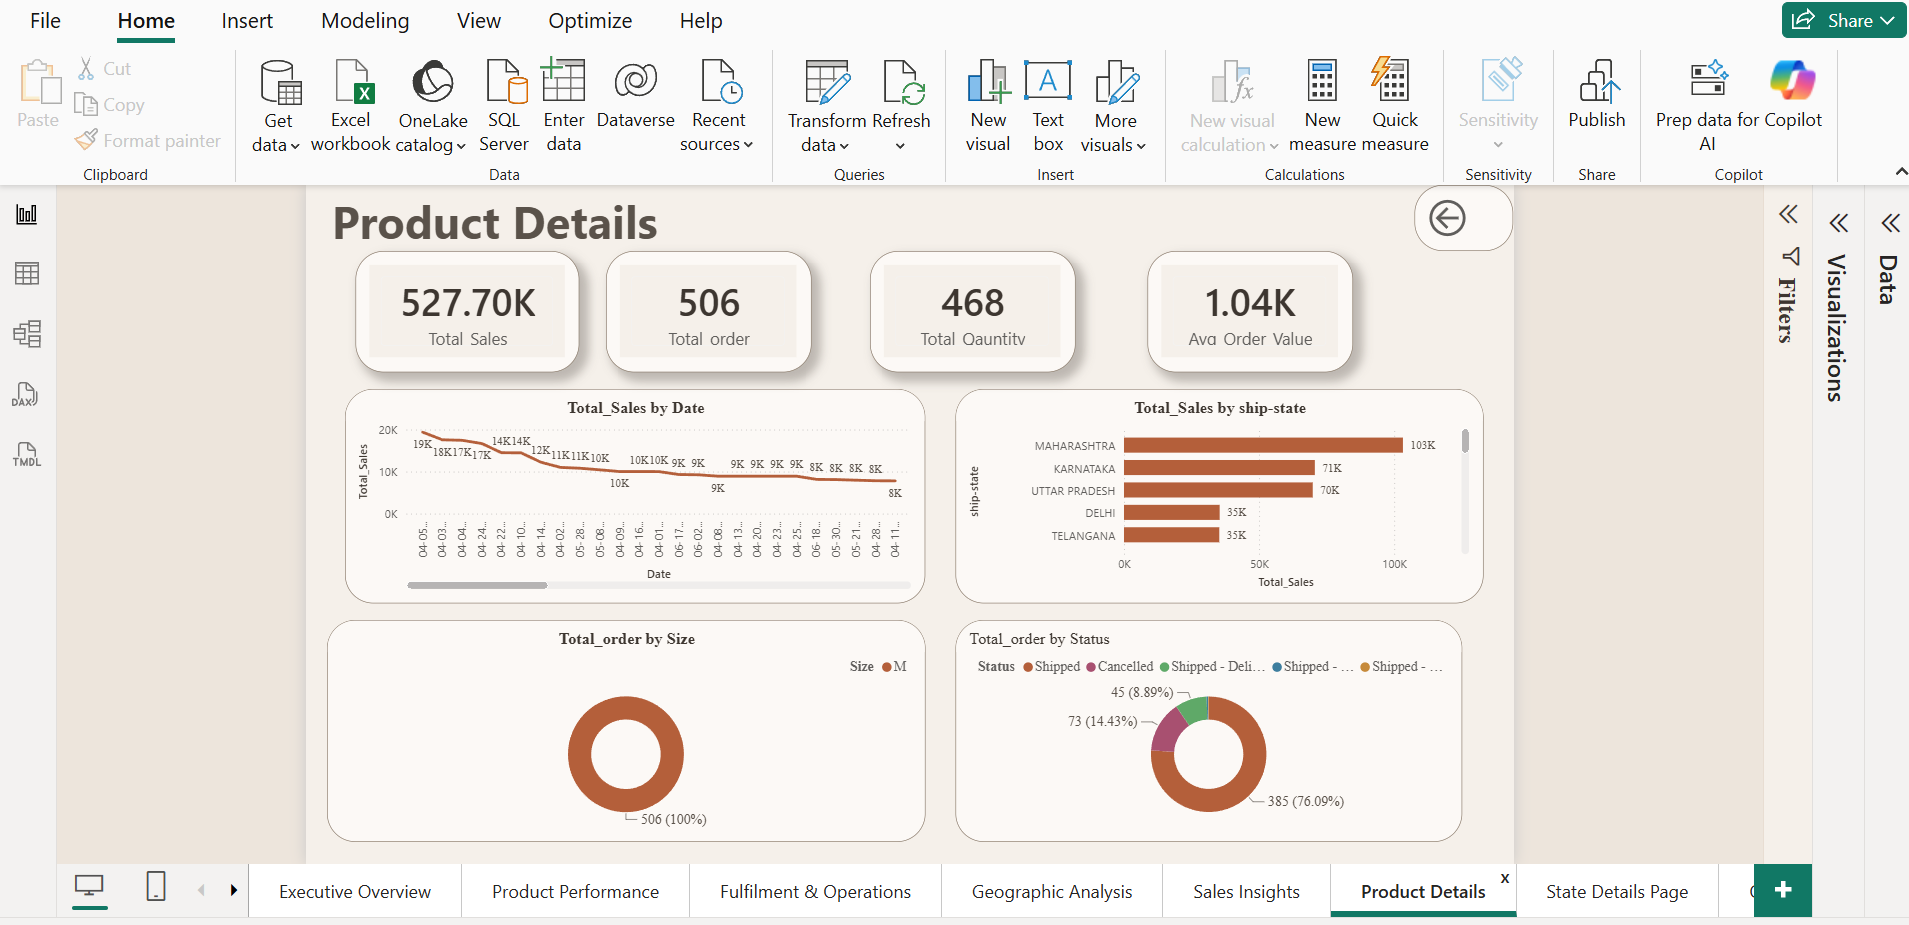

What the dashboard file says about the page in this screenshot:
{"tool":"powerbi","page":{"name":"Product Details","canvas":[1280,720],"ordinal":5},"visuals":[{"type":"actionButton","box":[1175.5,0,105,70],"z":0},{"type":"textbox","box":[22.3,0,494.7,87.5],"z":1000},{"type":"lineChart","fields":{"Category":["amazon_sales_cleaned.Date"],"Y":["amazon_sales_cleaned.Total_Sales"]},"box":[41.4,216.3,615.6,227.5],"z":2000},{"type":"barChart","fields":{"Category":["amazon_sales_cleaned.ship-state"],"Y":["amazon_sales_cleaned.Total_Sales"]},"box":[688.7,216.3,559.9,227.5],"z":3000},{"type":"donutChart","fields":{"Category":["amazon_sales_cleaned.Size"],"Y":["amazon_sales_cleaned.Total_order"]},"box":[22.3,461.3,634.7,235.4],"z":4000},{"type":"cardVisual","fields":{"Data":["amazon_sales_cleaned.Total_Sales"]},"box":[52.5,70,237,128.8],"z":5000},{"type":"cardVisual","fields":{"Data":["amazon_sales_cleaned.Total_order"]},"box":[318.1,70,217.9,128.8],"z":6000},{"type":"cardVisual","fields":{"Data":["amazon_sales_cleaned.Total_Qauntity"]},"box":[598.1,70,217.9,128.8],"z":7000},{"type":"cardVisual","fields":{"Data":["amazon_sales_cleaned.Avg_Order_Value"]},"box":[892.3,70,217.9,128.8],"z":8000},{"type":"donutChart","fields":{"Category":["amazon_sales_cleaned.Status"],"Y":["amazon_sales_cleaned.Total_order"]},"box":[688.7,461.3,537.6,235.4],"z":9000}]}

Visuals, with their boxes on the page's 1280x720 design canvas (x1, y1, x2, y2). These are canvas units, not pixel positions in the 1909x925 screenshot, which may show the page scaled, cropped or inside an application window:
actionButton: [1176,0,1280,70]
textbox: [22,0,517,88]
lineChart - amazon_sales_cleaned.Date x amazon_sales_cleaned.Total_Sales: [41,216,657,444]
barChart - amazon_sales_cleaned.ship-state x amazon_sales_cleaned.Total_Sales: [689,216,1249,444]
donutChart - amazon_sales_cleaned.Size x amazon_sales_cleaned.Total_order: [22,461,657,697]
cardVisual - amazon_sales_cleaned.Total_Sales: [52,70,290,199]
cardVisual - amazon_sales_cleaned.Total_order: [318,70,536,199]
cardVisual - amazon_sales_cleaned.Total_Qauntity: [598,70,816,199]
cardVisual - amazon_sales_cleaned.Avg_Order_Value: [892,70,1110,199]
donutChart - amazon_sales_cleaned.Status x amazon_sales_cleaned.Total_order: [689,461,1226,697]
